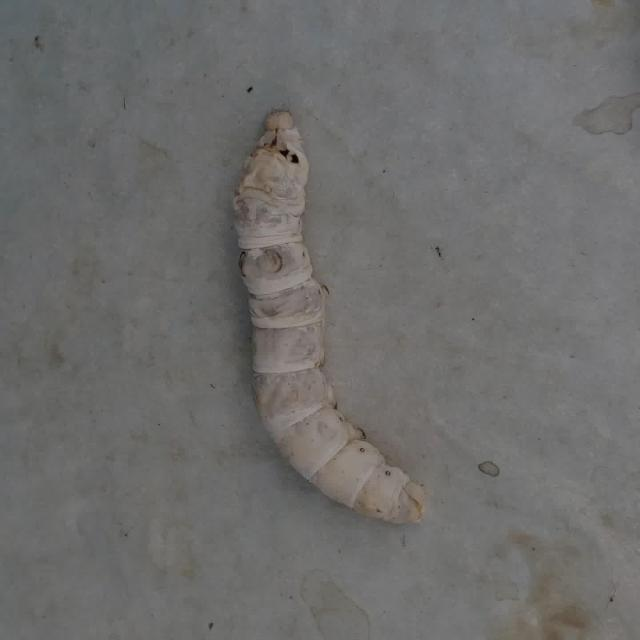Grasserie: (209, 88, 471, 535)
